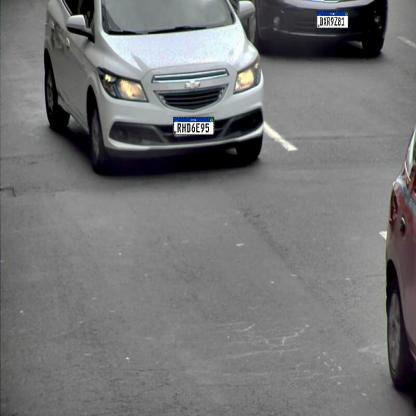PlacaM: (173, 117, 214, 135), (317, 11, 348, 29)
